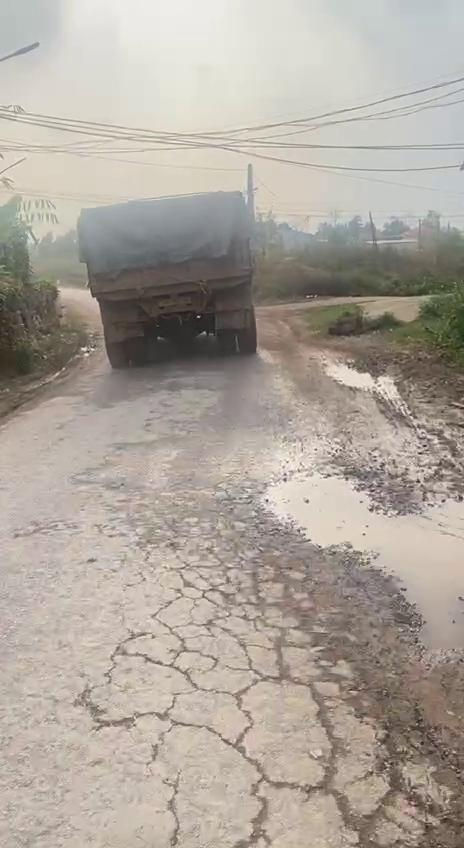pothole: (255, 459, 464, 660)
